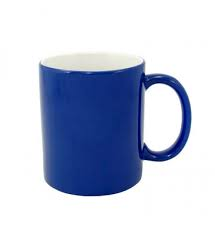cup: (35, 48, 195, 199)
